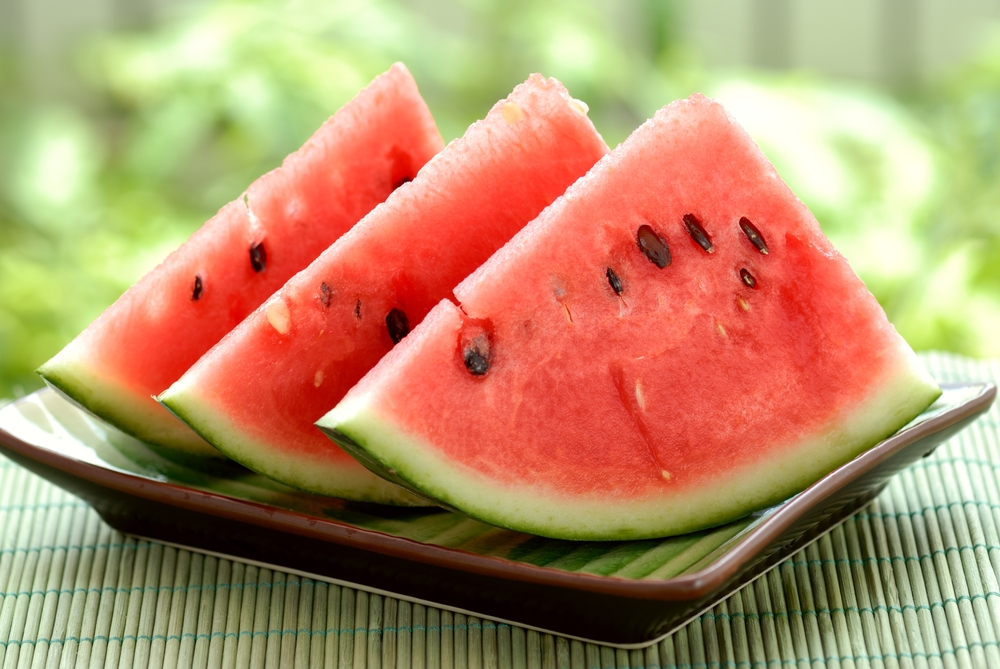Semangka: (427, 129, 840, 535), (77, 96, 378, 425), (254, 86, 546, 403)
